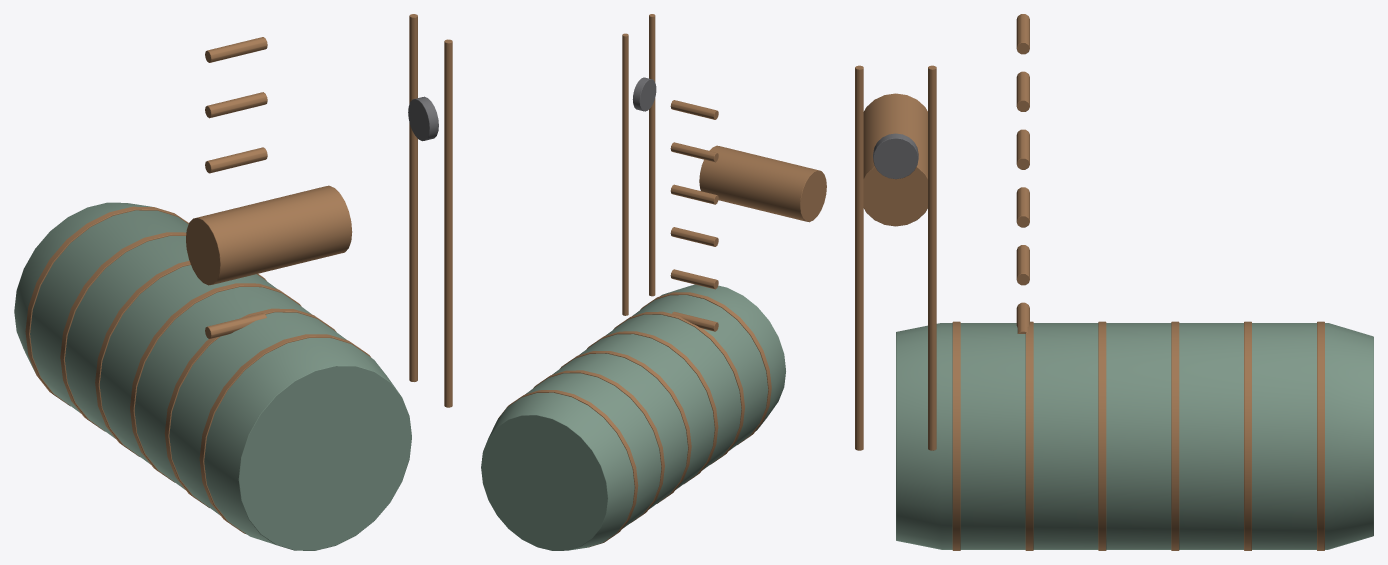
Rendered from LV_coolant_tank.fbx.
The picture shows the model from 3 angles, left to right: view 1: azimuth 30°, elevation 25°; view 2: azimuth 150°, elevation 25°; view 3: azimuth 270°, elevation 25°; orthographic projection. The views are drawn at different scales.
Visible parts, largest first — view 1: LV_coolant_tank; view 2: LV_coolant_tank; view 3: LV_coolant_tank.
Part boxes in pixels (box(x1,y1,x2,y2)): LV_coolant_tank: box(14, 14, 452, 550); LV_coolant_tank: box(481, 14, 826, 550); LV_coolant_tank: box(855, 14, 1373, 550).
Size of the model in its own units: 1.23 by 2.55 by 2.28.
